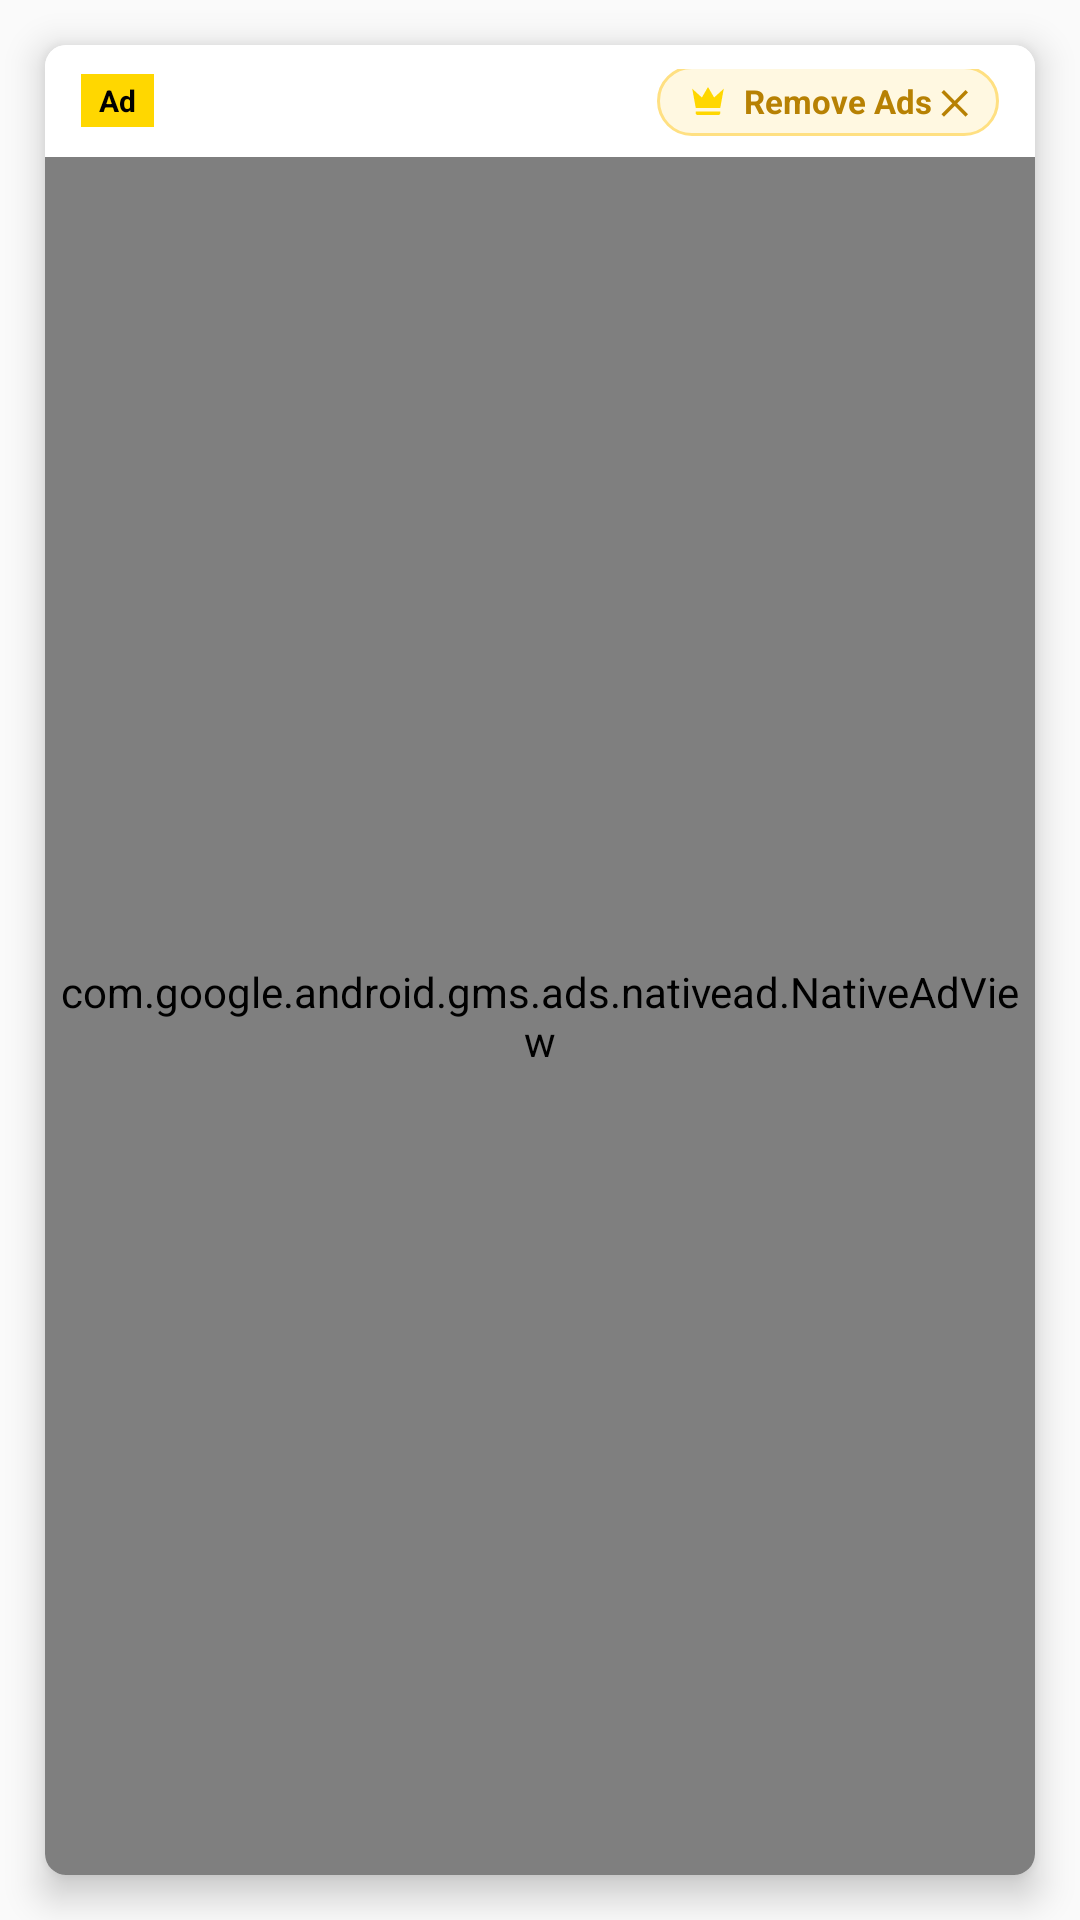

Point at icon controls on the screen. Image size 1080w x 1920h, points as point (x, y).
crown premium: point (708, 101)
